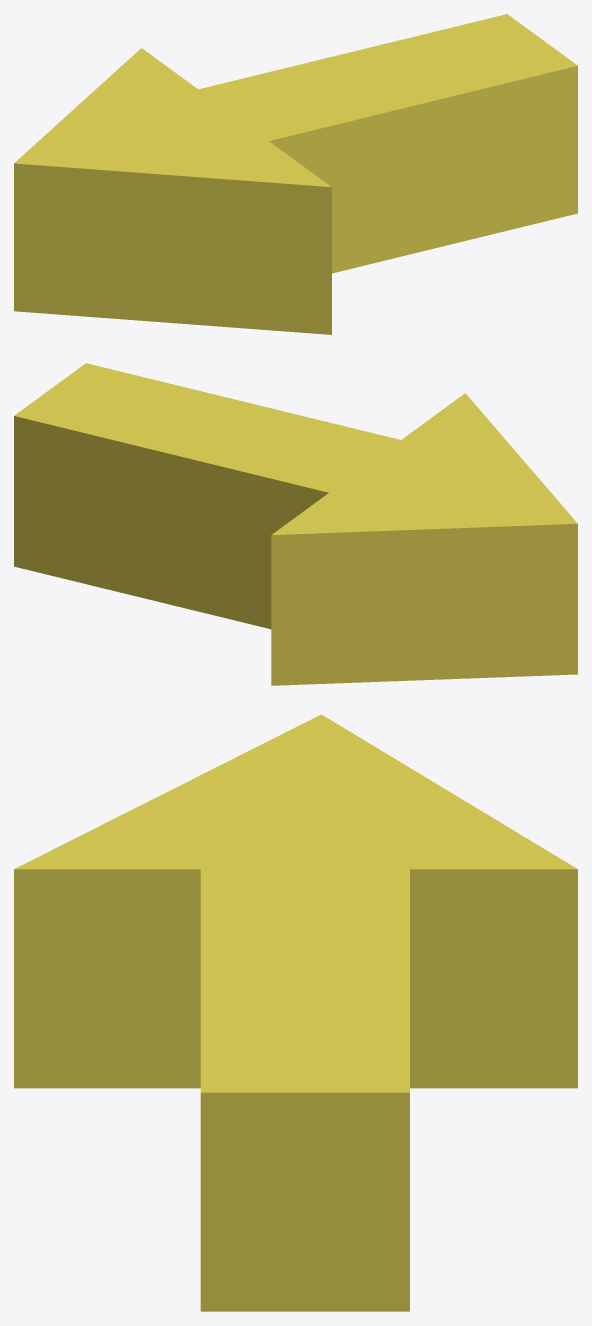
Rendered from arrowMesh.fbx.
The picture shows the model from 3 angles, top to bottom: view 1: azimuth 30°, elevation 25°; view 2: azimuth 150°, elevation 25°; view 3: azimuth 270°, elevation 25°; orthographic projection. The views are drawn at different scales.
Parts seen in each view (by area): view 1: Cube; view 2: Cube; view 3: Cube.
Boxes of the visible parts, x1,y1,x2,y2 form: Cube: (14, 14, 577, 334); Cube: (14, 363, 577, 685); Cube: (14, 714, 577, 1311).
Size of the model in its own units: 741 by 200 by 467.
